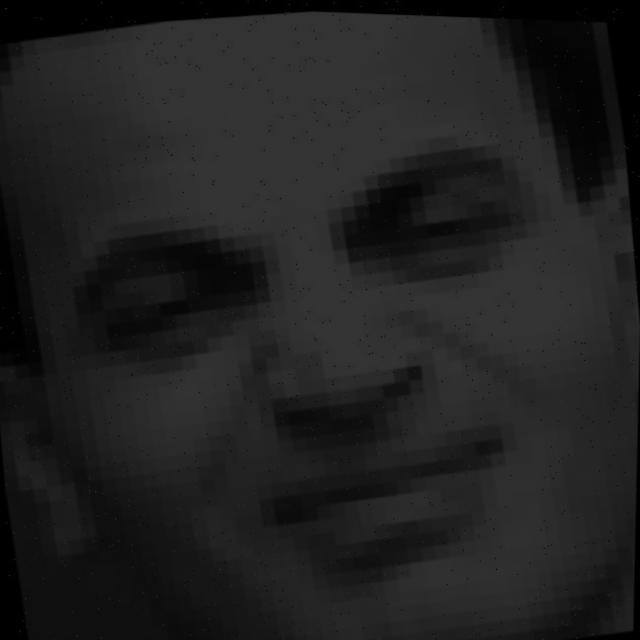Disgust: (53, 107, 640, 640)
